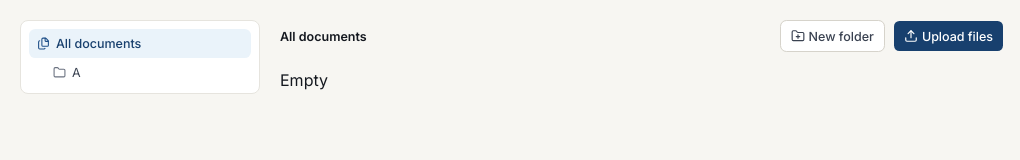
it: right-click › empty space offers new folder and upload
Right-click the text "Empty": (304, 80) [280,70,328,90]
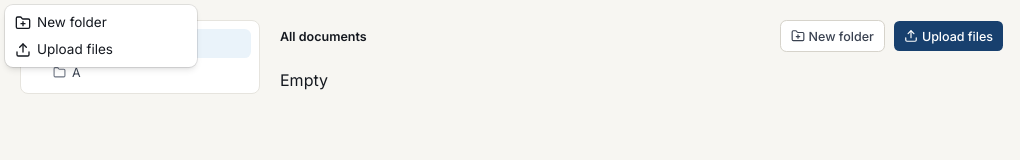
Expected: the menu item "New folder" is shown, [15,14,107,30]
Expected: the menu item "Upload files" is shown, [15,41,113,58]
